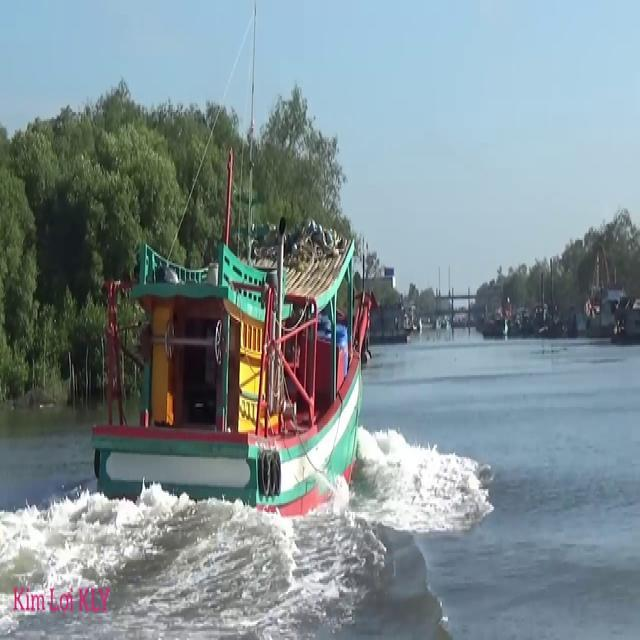Ship: (87, 211, 376, 530)
